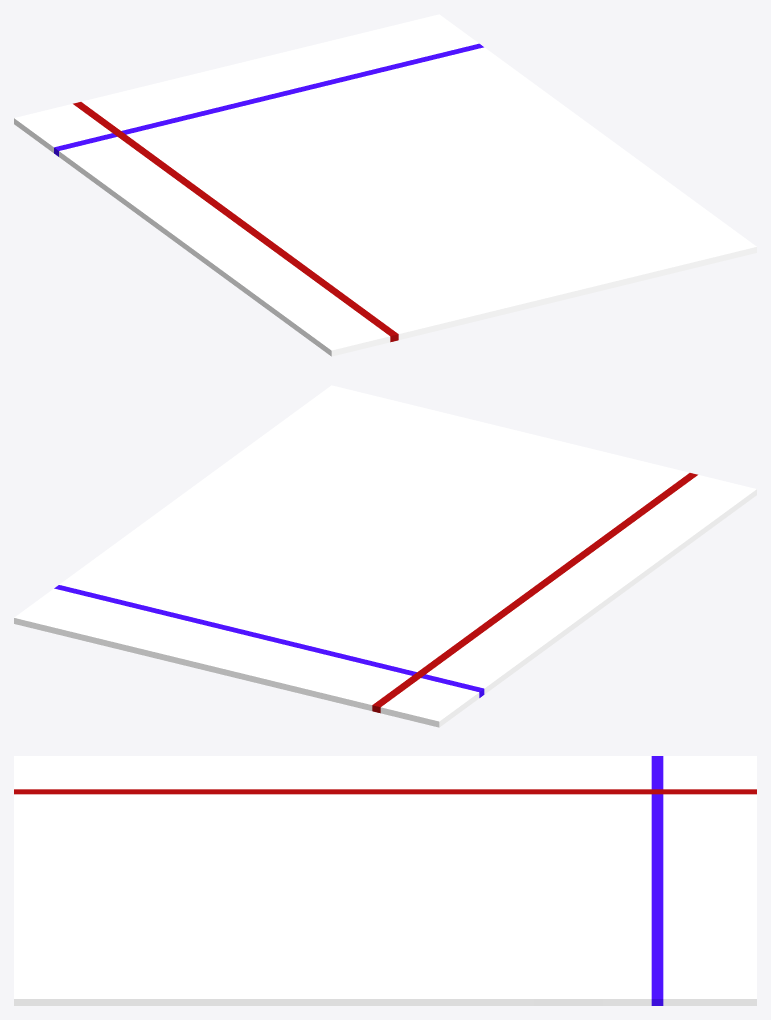
Rendered from 456baa98-f7a8-438a-90bf-9473c0b14b69.glb.
3 views of the same model, one above another, from view 1: azimuth 30°, elevation 25°; view 2: azimuth 150°, elevation 25°; view 3: azimuth 270°, elevation 25° (orthographic). The views are drawn at different scales.
Parts seen in each view (by area): view 1: PieceOfPaper; view 2: PieceOfPaper; view 3: PieceOfPaper.
Boxes of the visible parts, x1=… form: PieceOfPaper: x1=14, y1=14, x2=756, y2=356; PieceOfPaper: x1=14, y1=385, x2=756, y2=727; PieceOfPaper: x1=14, y1=756, x2=756, y2=1005.
Bounding box in the file's own units: 0.297 × 0.00407 × 0.3841.
Materials: 1 (1 with a texture image).
